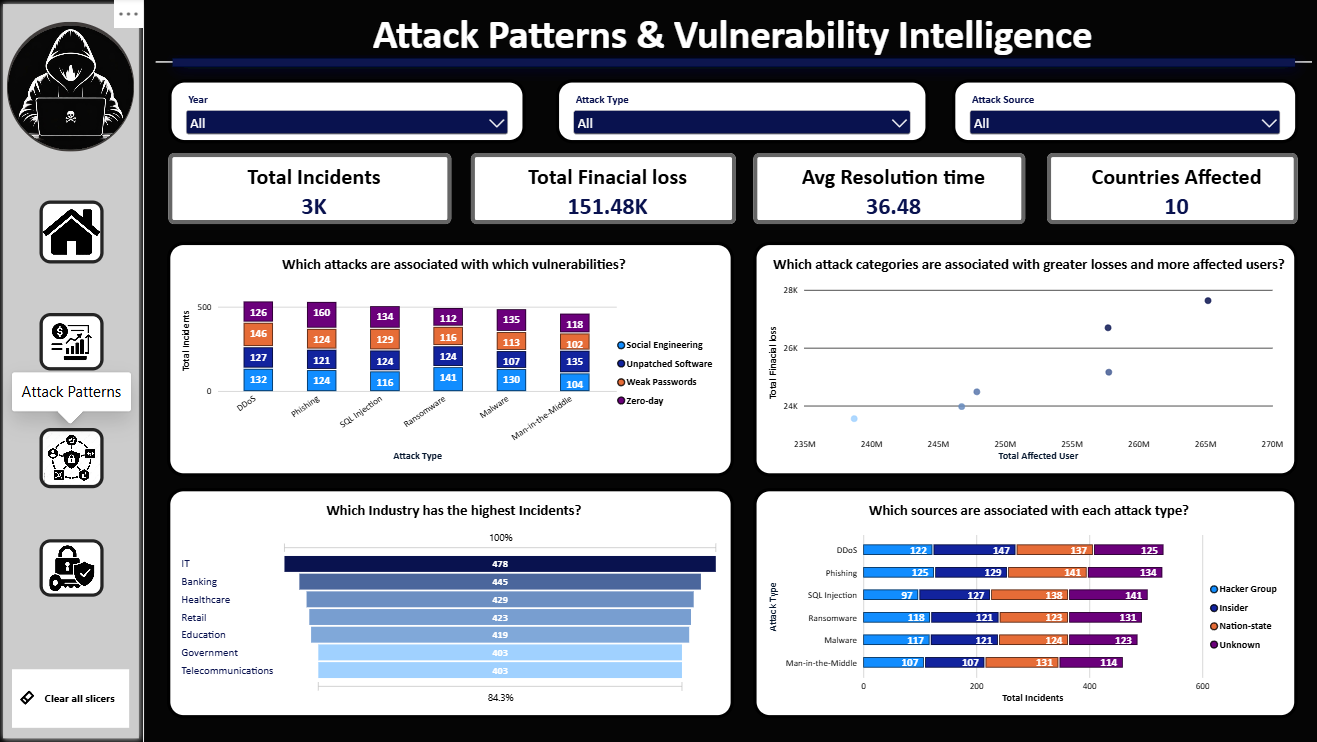

This screenshot's page, from the dashboard's own definition file:
{"tool":"powerbi","page":{"name":"Attack Patterns","canvas":[1920,1080],"ordinal":2},"visuals":[{"type":"textbox","box":[246.6,16.2,1637.4,86.9],"z":0},{"type":"shape","box":[0,0,214.1,1080.6],"z":1000},{"type":"shape","box":[230.4,80.9,1673.8,22.2],"z":2000},{"type":"image","box":[60.6,293.1,93,91],"z":3000},{"type":"shape","box":[230.4,64.7,1673.8,56.6],"z":4000},{"type":"image","box":[60.6,456.9,93,82.9],"z":5000},{"type":"image","box":[60.6,622.6,93,86.9],"z":6000},{"type":"image","box":[60.6,784.3,93,82.9],"z":7000},{"type":"slicer","fields":{"Values":["Global_Cybersecurity_Threats_20.Year"]},"box":[248.6,117.2,517.5,93],"z":8000},{"type":"slicer","fields":{"Values":["Table1.Attack Type"]},"box":[808.6,117.2,539.7,93],"z":9000},{"type":"slicer","fields":{"Values":["Global_Cybersecurity_Threats_20.Attack Source"]},"box":[1382.7,117.2,501.3,93],"z":10000},{"type":"actionButton","box":[22.2,972.3,169.8,84.9],"z":11000},{"type":"cardVisual","fields":{"Data":["Measure.Total Incidents"]},"box":[248.6,224.4,410.4,103.1],"z":12000},{"type":"cardVisual","fields":{"Data":["Measure.Total Finacial loss"]},"box":[685.3,224.4,384.1,103.1],"z":13000},{"type":"cardVisual","fields":{"Data":["Measure.Avg Resolution time"]},"box":[1095.6,224.4,394.2,103.1],"z":14000},{"type":"cardVisual","fields":{"Data":["Measure.Countries Affected"]},"box":[1520.2,224.4,363.9,103.1],"z":15000},{"type":"image","box":[14,34.9,183.7,188.4],"z":16000},{"type":"columnChart","title":"Which attacks are associated with which vulnerabilities?","fields":{"Category":["Table1.Attack Type"],"Series":["Global_Cybersecurity_Threats_20.Security Vulnerability Type"],"Y":["Measure.Total Incidents"]},"box":[246.6,353.8,820.7,339.6],"z":21000},{"type":"barChart","title":"Which sources are associated with each attack type?","fields":{"Category":["Table1.Attack Type"],"Series":["Global_Cybersecurity_Threats_20.Attack Source"],"Y":["Measure.Total Incidents"]},"box":[1095.6,709.5,788.4,333.5],"z":22000},{"type":"scatterChart","title":"Which attack categories are associated with greater losses and more affected users?","fields":{"Series":["Table1.Attack Type"],"X":["Measure.Total Affected User"],"Y":["Measure.Total Finacial loss"]},"box":[1095.6,353.8,788.4,339.6],"z":23000},{"type":"funnel","title":"Which Industry has the highest Incidents?","fields":{"Category":["Global_Cybersecurity_Threats_20.Target Industry"],"Y":["Measure.Total Incidents"]},"box":[246.6,709.5,820.7,333.5],"z":24001}]}

Visuals, with their boxes on the page's 1920x1080 design canvas (x1, y1, x2, y2). These are canvas units, not pixel positions in the 1317x742 screenshot, which may show the page scaled, cropped or inside an application window:
textbox: x1=247 y1=16 x2=1884 y2=103
shape: x1=0 y1=0 x2=214 y2=1081
shape: x1=230 y1=81 x2=1904 y2=103
image: x1=61 y1=293 x2=154 y2=384
shape: x1=230 y1=65 x2=1904 y2=121
image: x1=61 y1=457 x2=154 y2=540
image: x1=61 y1=623 x2=154 y2=710
image: x1=61 y1=784 x2=154 y2=867
slicer - Global_Cybersecurity_Threats_20.Year: x1=249 y1=117 x2=766 y2=210
slicer - Table1.Attack Type: x1=809 y1=117 x2=1348 y2=210
slicer - Global_Cybersecurity_Threats_20.Attack Source: x1=1383 y1=117 x2=1884 y2=210
actionButton: x1=22 y1=972 x2=192 y2=1057
cardVisual - Measure.Total Incidents: x1=249 y1=224 x2=659 y2=328
cardVisual - Measure.Total Finacial loss: x1=685 y1=224 x2=1069 y2=328
cardVisual - Measure.Avg Resolution time: x1=1096 y1=224 x2=1490 y2=328
cardVisual - Measure.Countries Affected: x1=1520 y1=224 x2=1884 y2=328
image: x1=14 y1=35 x2=198 y2=223
"Which attacks are associated with which vulnerabilities?" columnChart: x1=247 y1=354 x2=1067 y2=693
"Which sources are associated with each attack type?" barChart: x1=1096 y1=710 x2=1884 y2=1043
"Which attack categories are associated with greater losses and more affected users?" scatterChart: x1=1096 y1=354 x2=1884 y2=693
"Which Industry has the highest Incidents?" funnel: x1=247 y1=710 x2=1067 y2=1043
